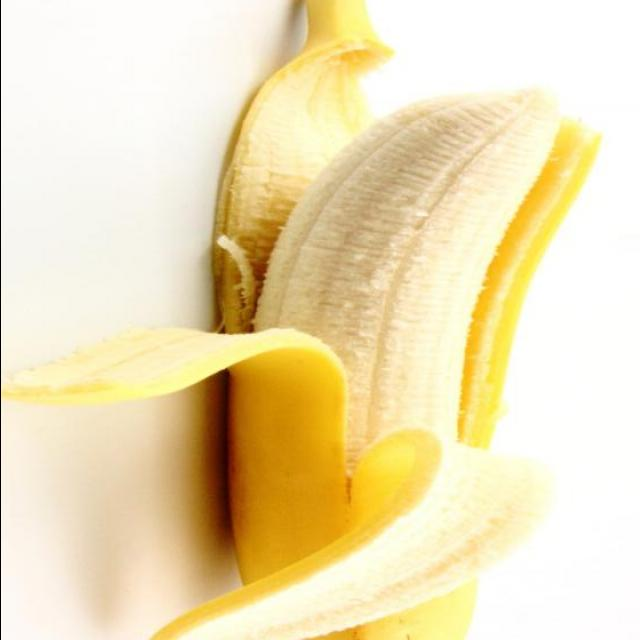banana: (198, 87, 556, 640)
